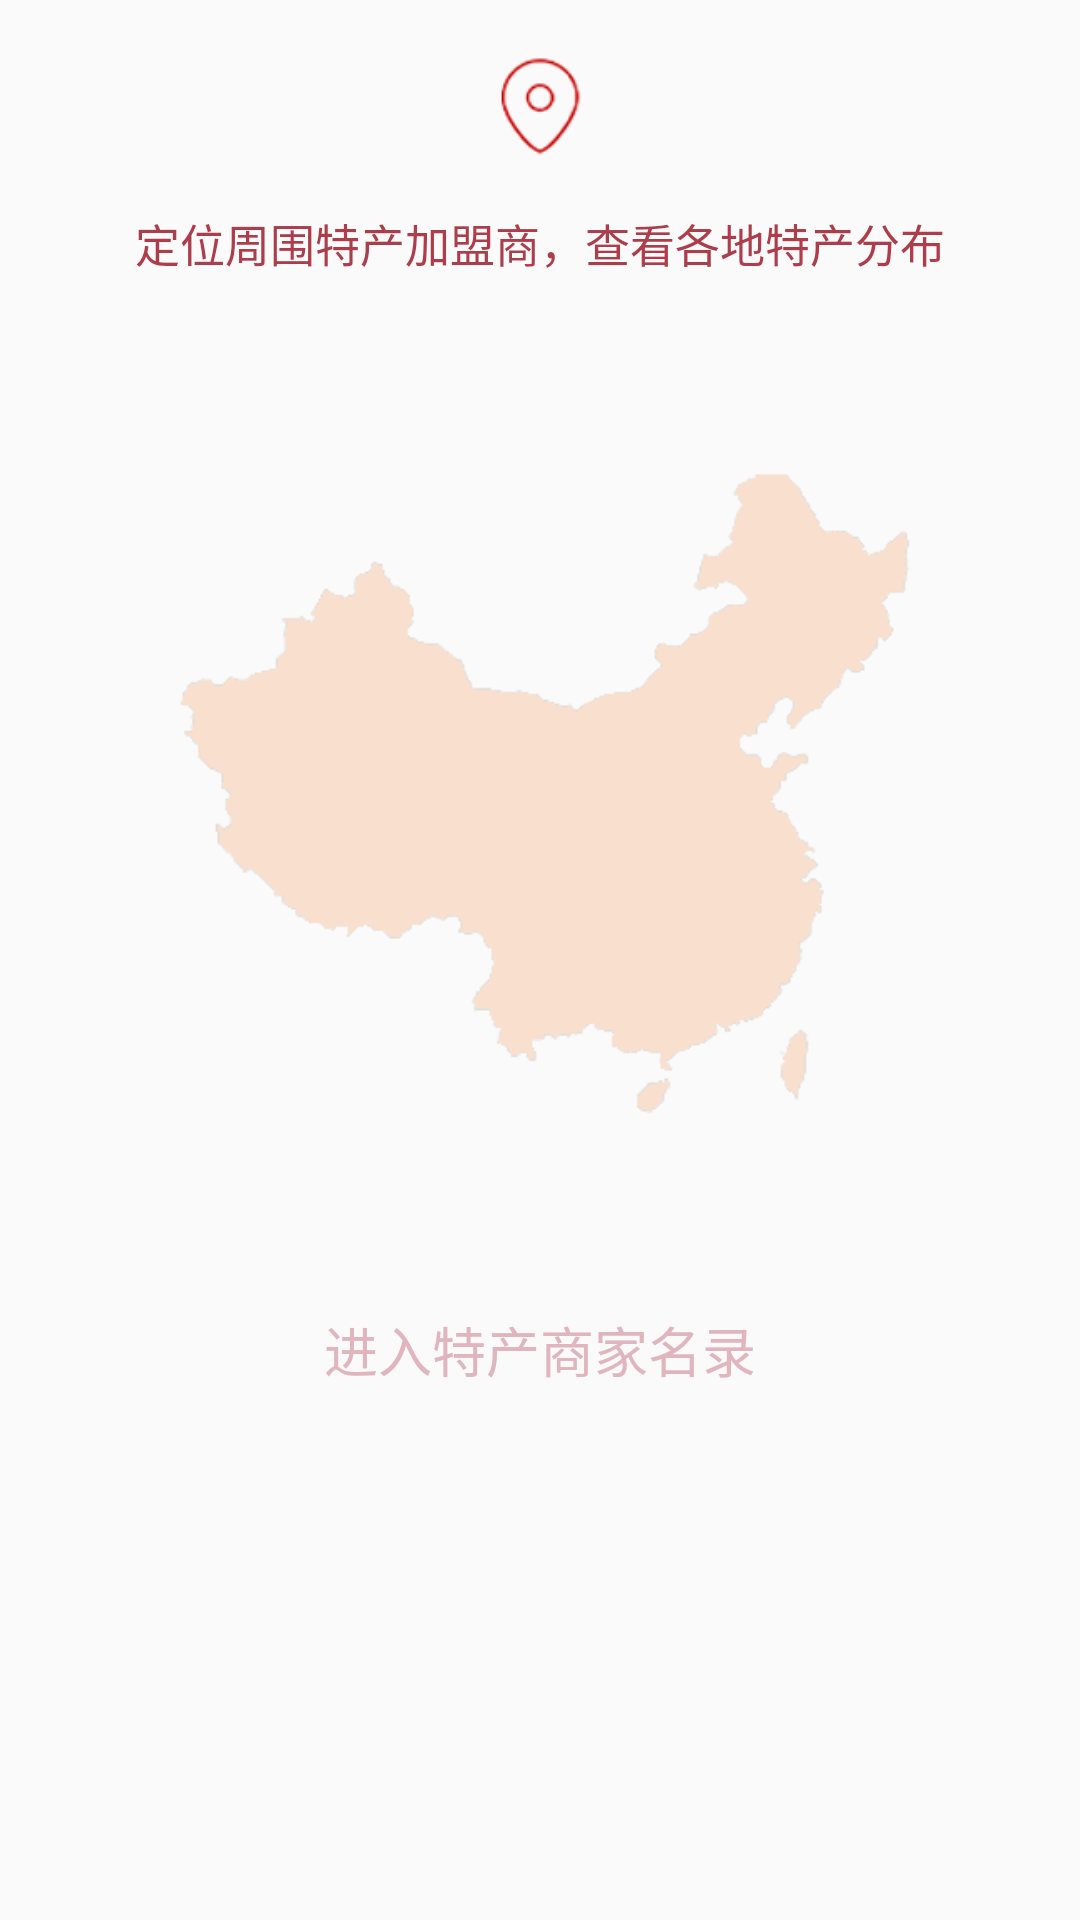

Icons on this 1080px x 1920px Android screen, each with its box as region(x1, y1, x2, y2):
location: region(501, 58, 580, 154)
